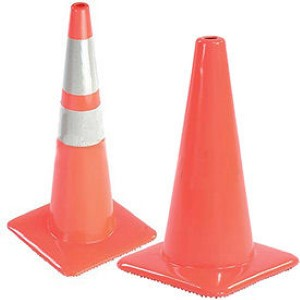traffic cone: (118, 36, 299, 297), (7, 2, 157, 277)
